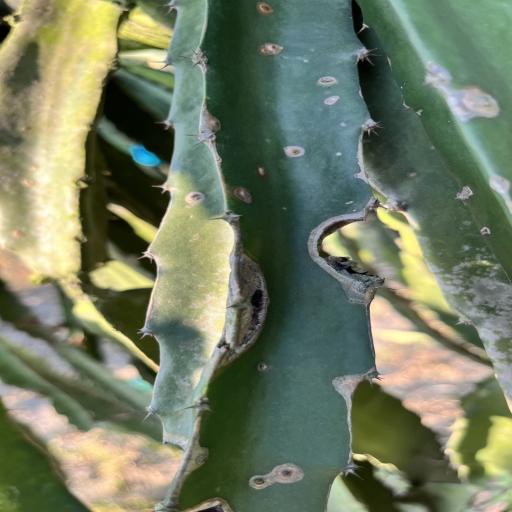stemcanker: (404, 170, 420, 181), (335, 151, 346, 158), (280, 205, 290, 212), (350, 208, 360, 212)
